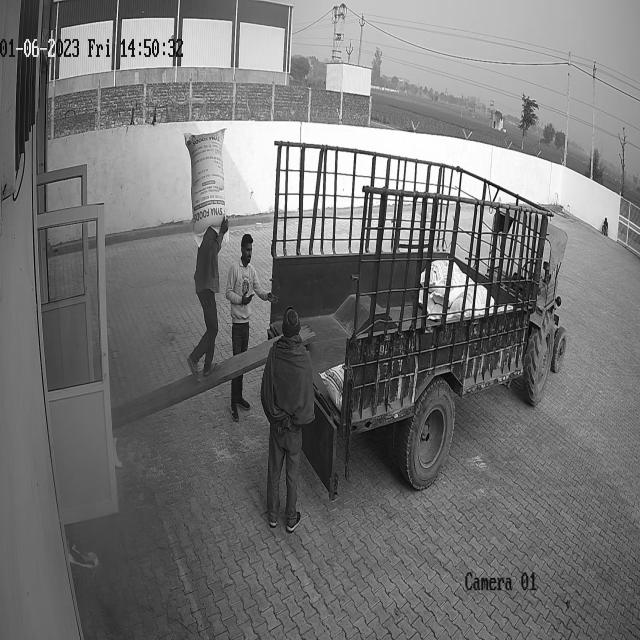sack: (183, 127, 226, 246)
